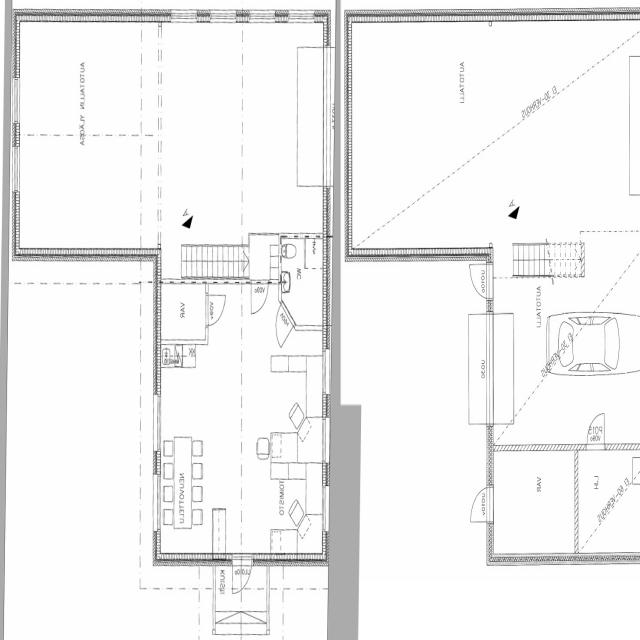door: (269, 301, 295, 347), (466, 487, 494, 522), (466, 264, 494, 299), (233, 553, 252, 600), (251, 278, 269, 314), (206, 295, 226, 325), (587, 414, 604, 449)
